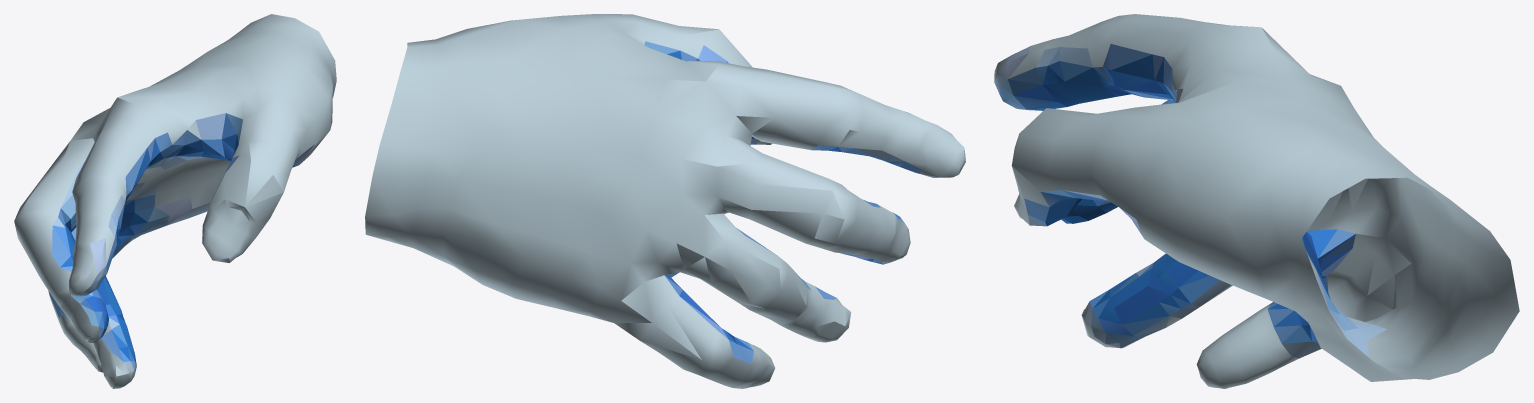
File: mocap_top.glb
3 views of the same model, side by side, from view 1: azimuth 30°, elevation 25°; view 2: azimuth 150°, elevation 25°; view 3: azimuth 270°, elevation 25° (orthographic). The views are drawn at different scales.
Visible parts, largest first — view 1: mesh0; view 2: mesh0; view 3: mesh0.
Part boxes in pixels (x1,y1,x2,y2): mesh0: (14,14,336,388); mesh0: (365,14,965,388); mesh0: (994,14,1519,388).
Size of the model in its own units: 0.1549 by 0.1074 by 0.129.
